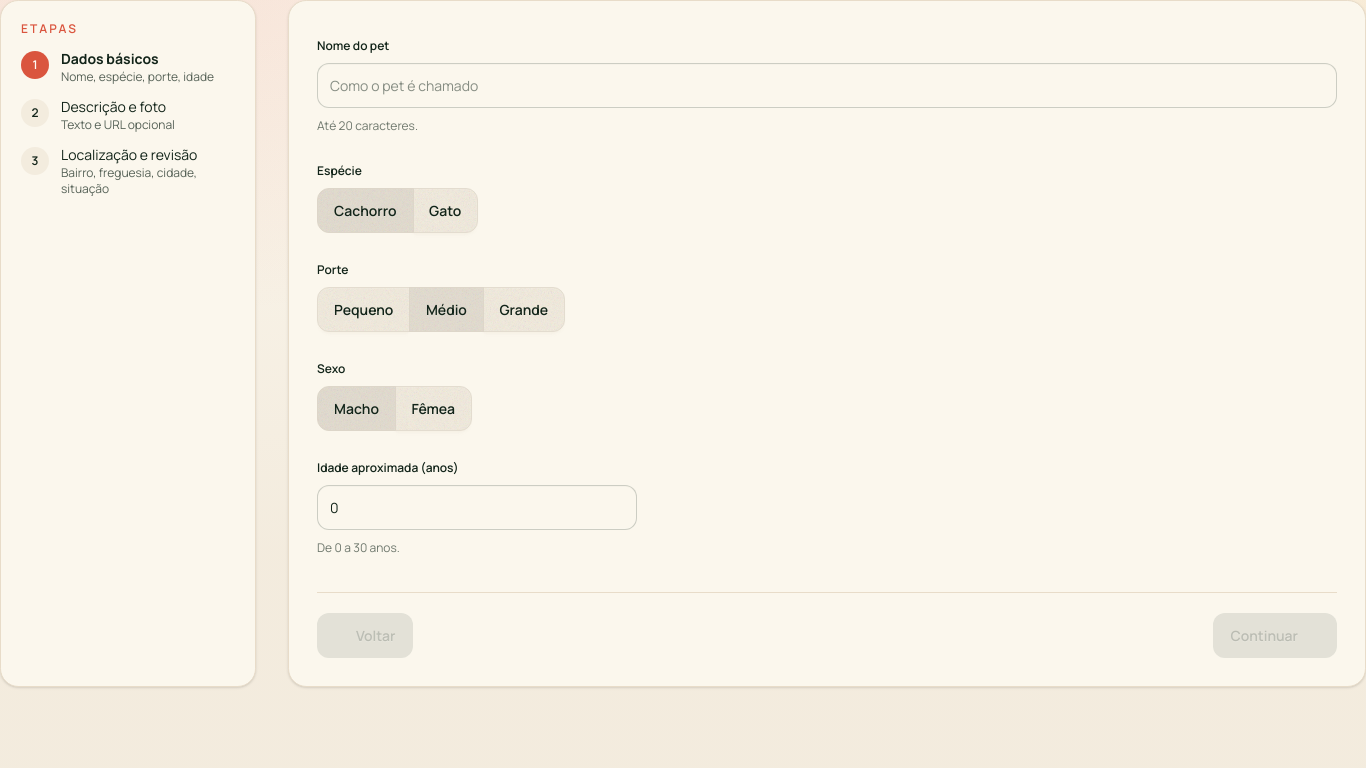
it: AnimalFormWizard › starts on basic data and continues to description
Type "Luna" into the field named "name" at (827, 86), box x1=317 y1=63 x2=1337 y2=108
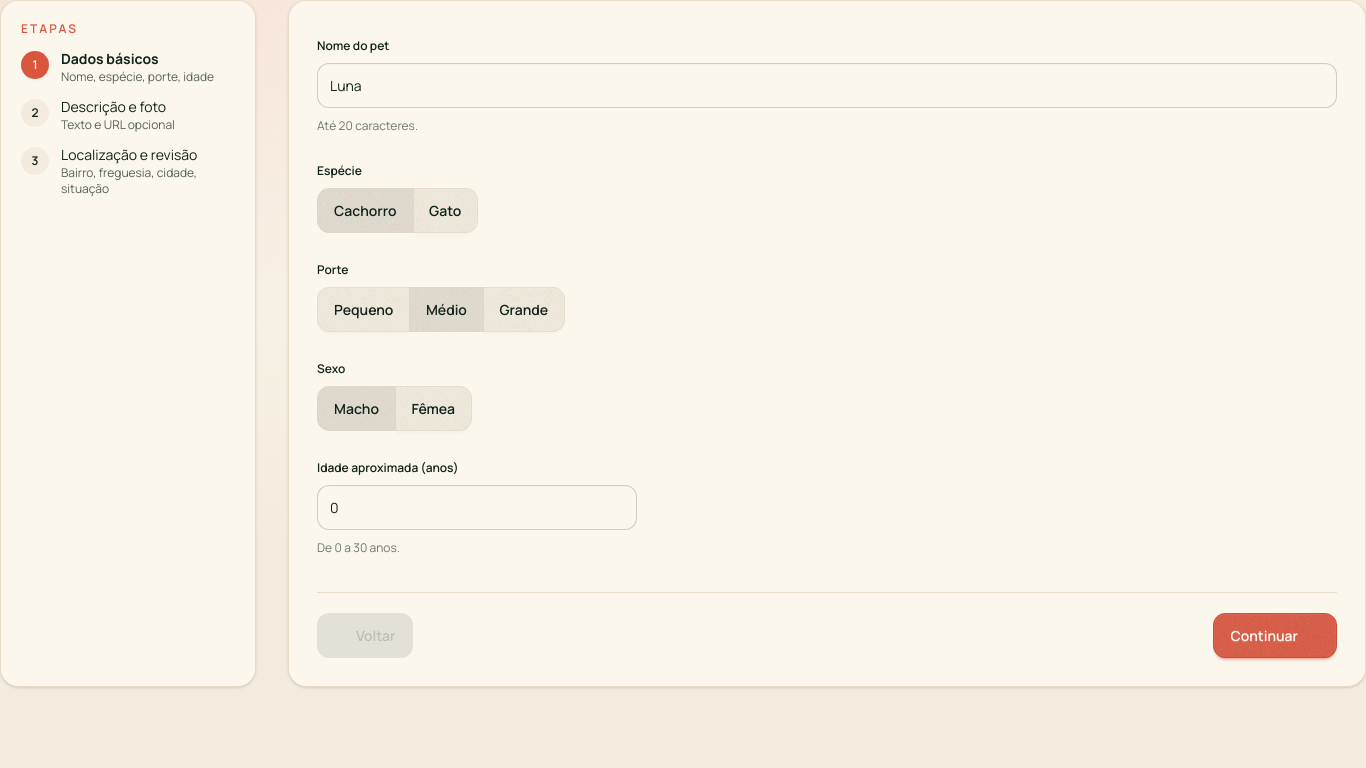
Click the button "Continuar" at (1275, 636), box x1=1213 y1=613 x2=1337 y2=658
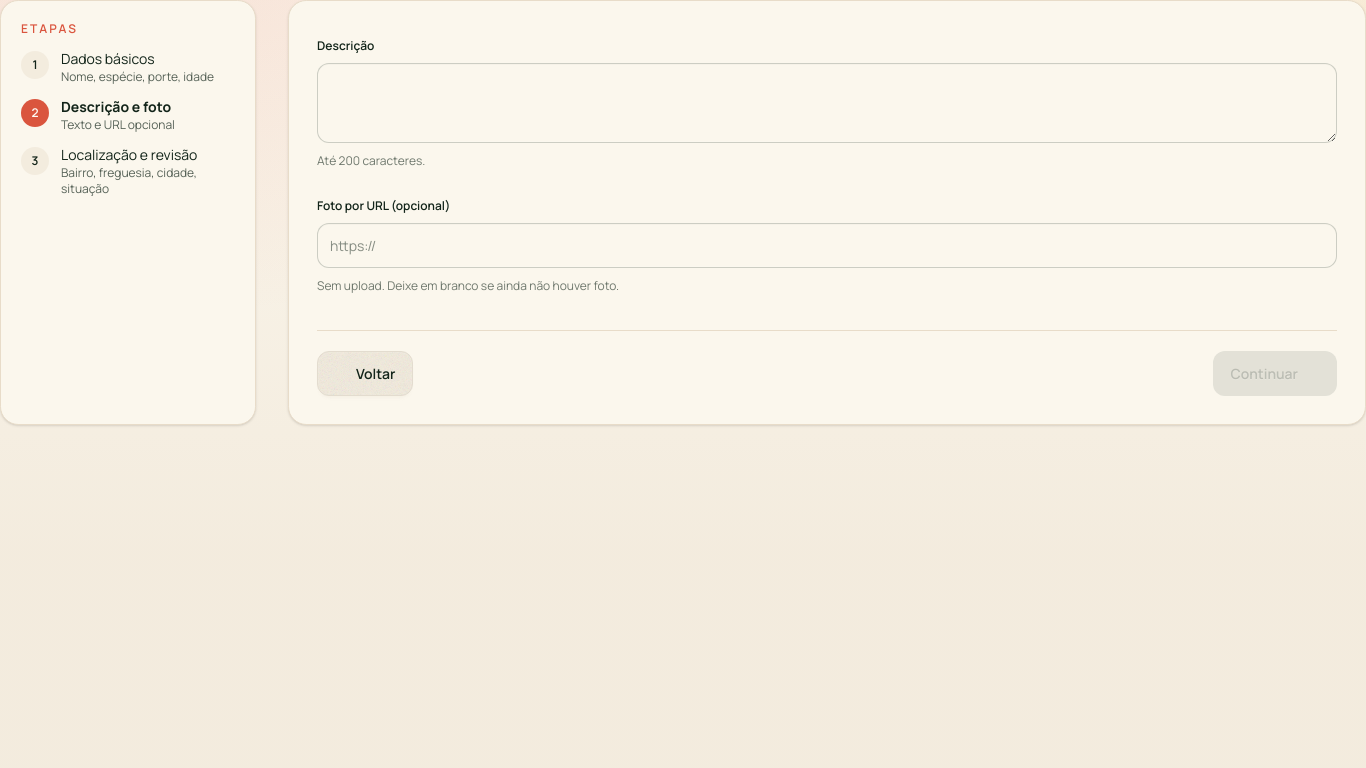
Expected: the text "Descrição" is shown, x1=61 y1=97 x2=171 y2=116
Expected: the text "Foto por URL (opcional)" is shown, x1=317 y1=197 x2=450 y2=214
